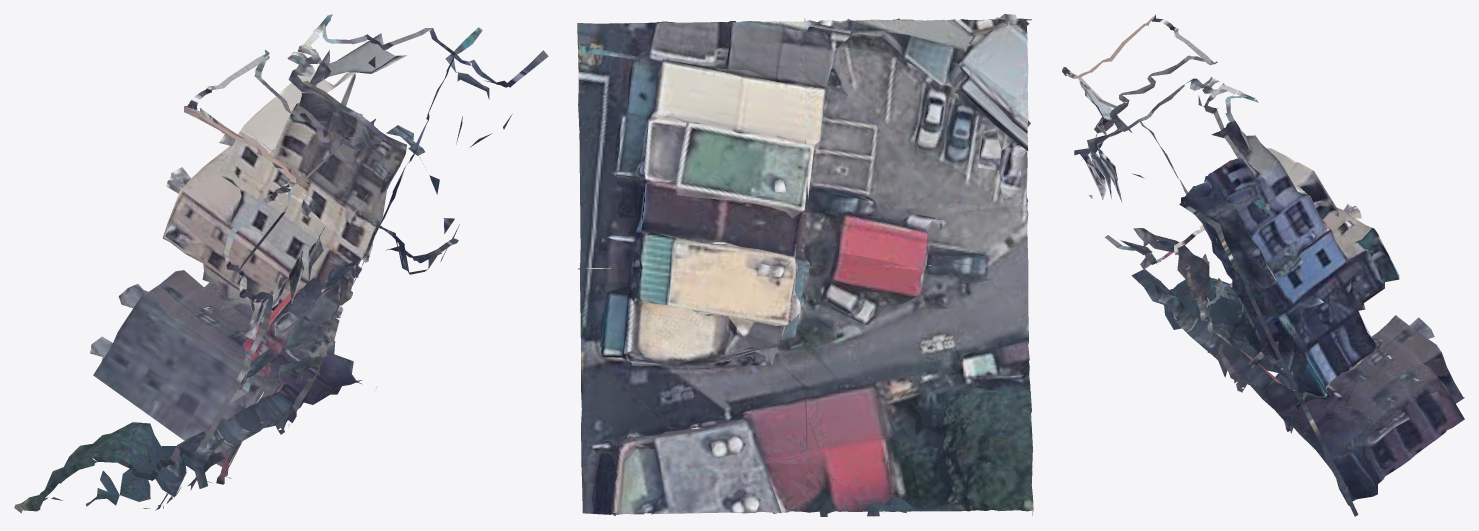
File: UlRPVEYubm9kZWRhdGEucGxhbmV0b2lkPWVhcnRoLG5vZGVfZGF0YV9lcG9jaD05MTYscGF0aD0zMTQzNDE1MjYwNzM2MjcxNjQ3MSxjYWNoZV92ZXJzaW9uPTY.glb
3 views of the same model, side by side, from view 1: azimuth 30°, elevation 25°; view 2: azimuth 150°, elevation 25°; view 3: azimuth 270°, elevation 25° (orthographic). The views are drawn at different scales.
Bounding box in the file's own units: 43.75 × 40.85 × 38.8.
1 material, 1 textured.
